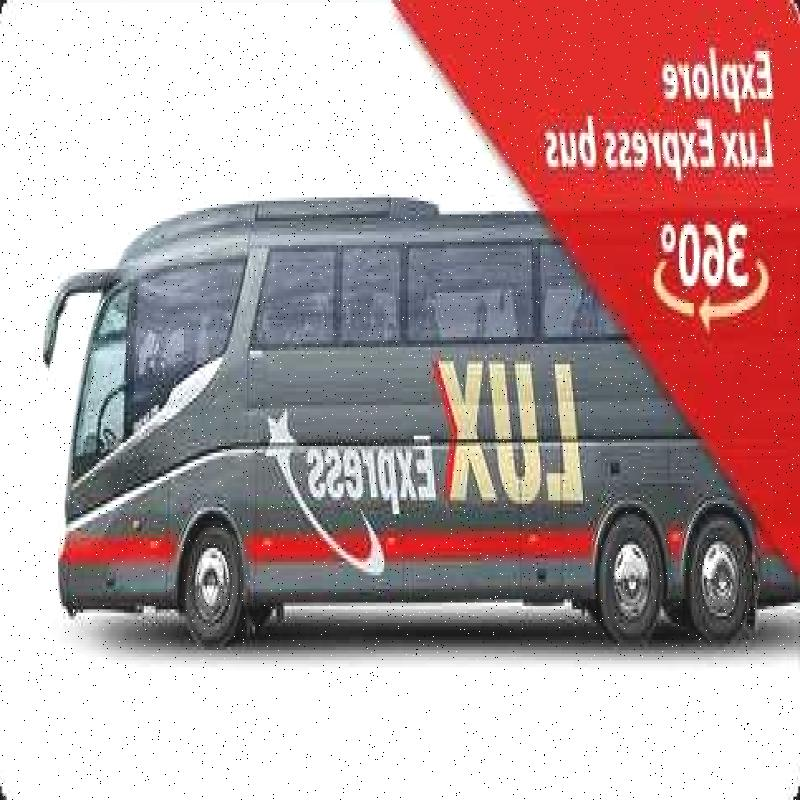bus: (53, 153, 778, 654)
